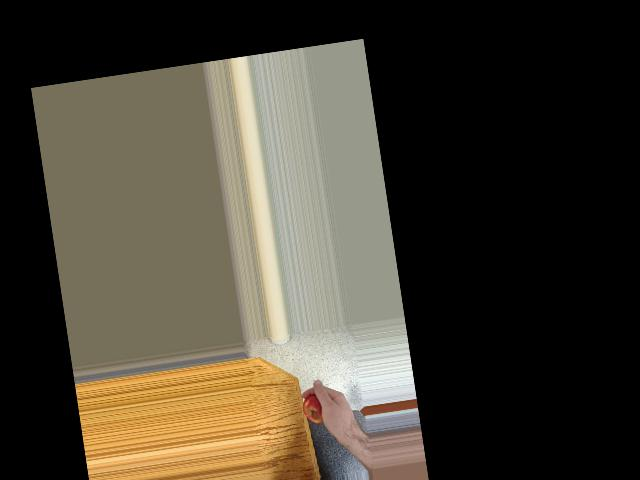apple: (300, 390, 329, 426)
